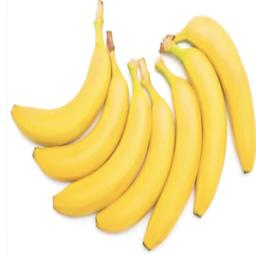Banana Ripe: (9, 0, 256, 252), (53, 60, 150, 215), (11, 0, 110, 145), (96, 58, 174, 231), (175, 16, 255, 171), (34, 51, 128, 180), (143, 57, 201, 249), (164, 40, 224, 215)
